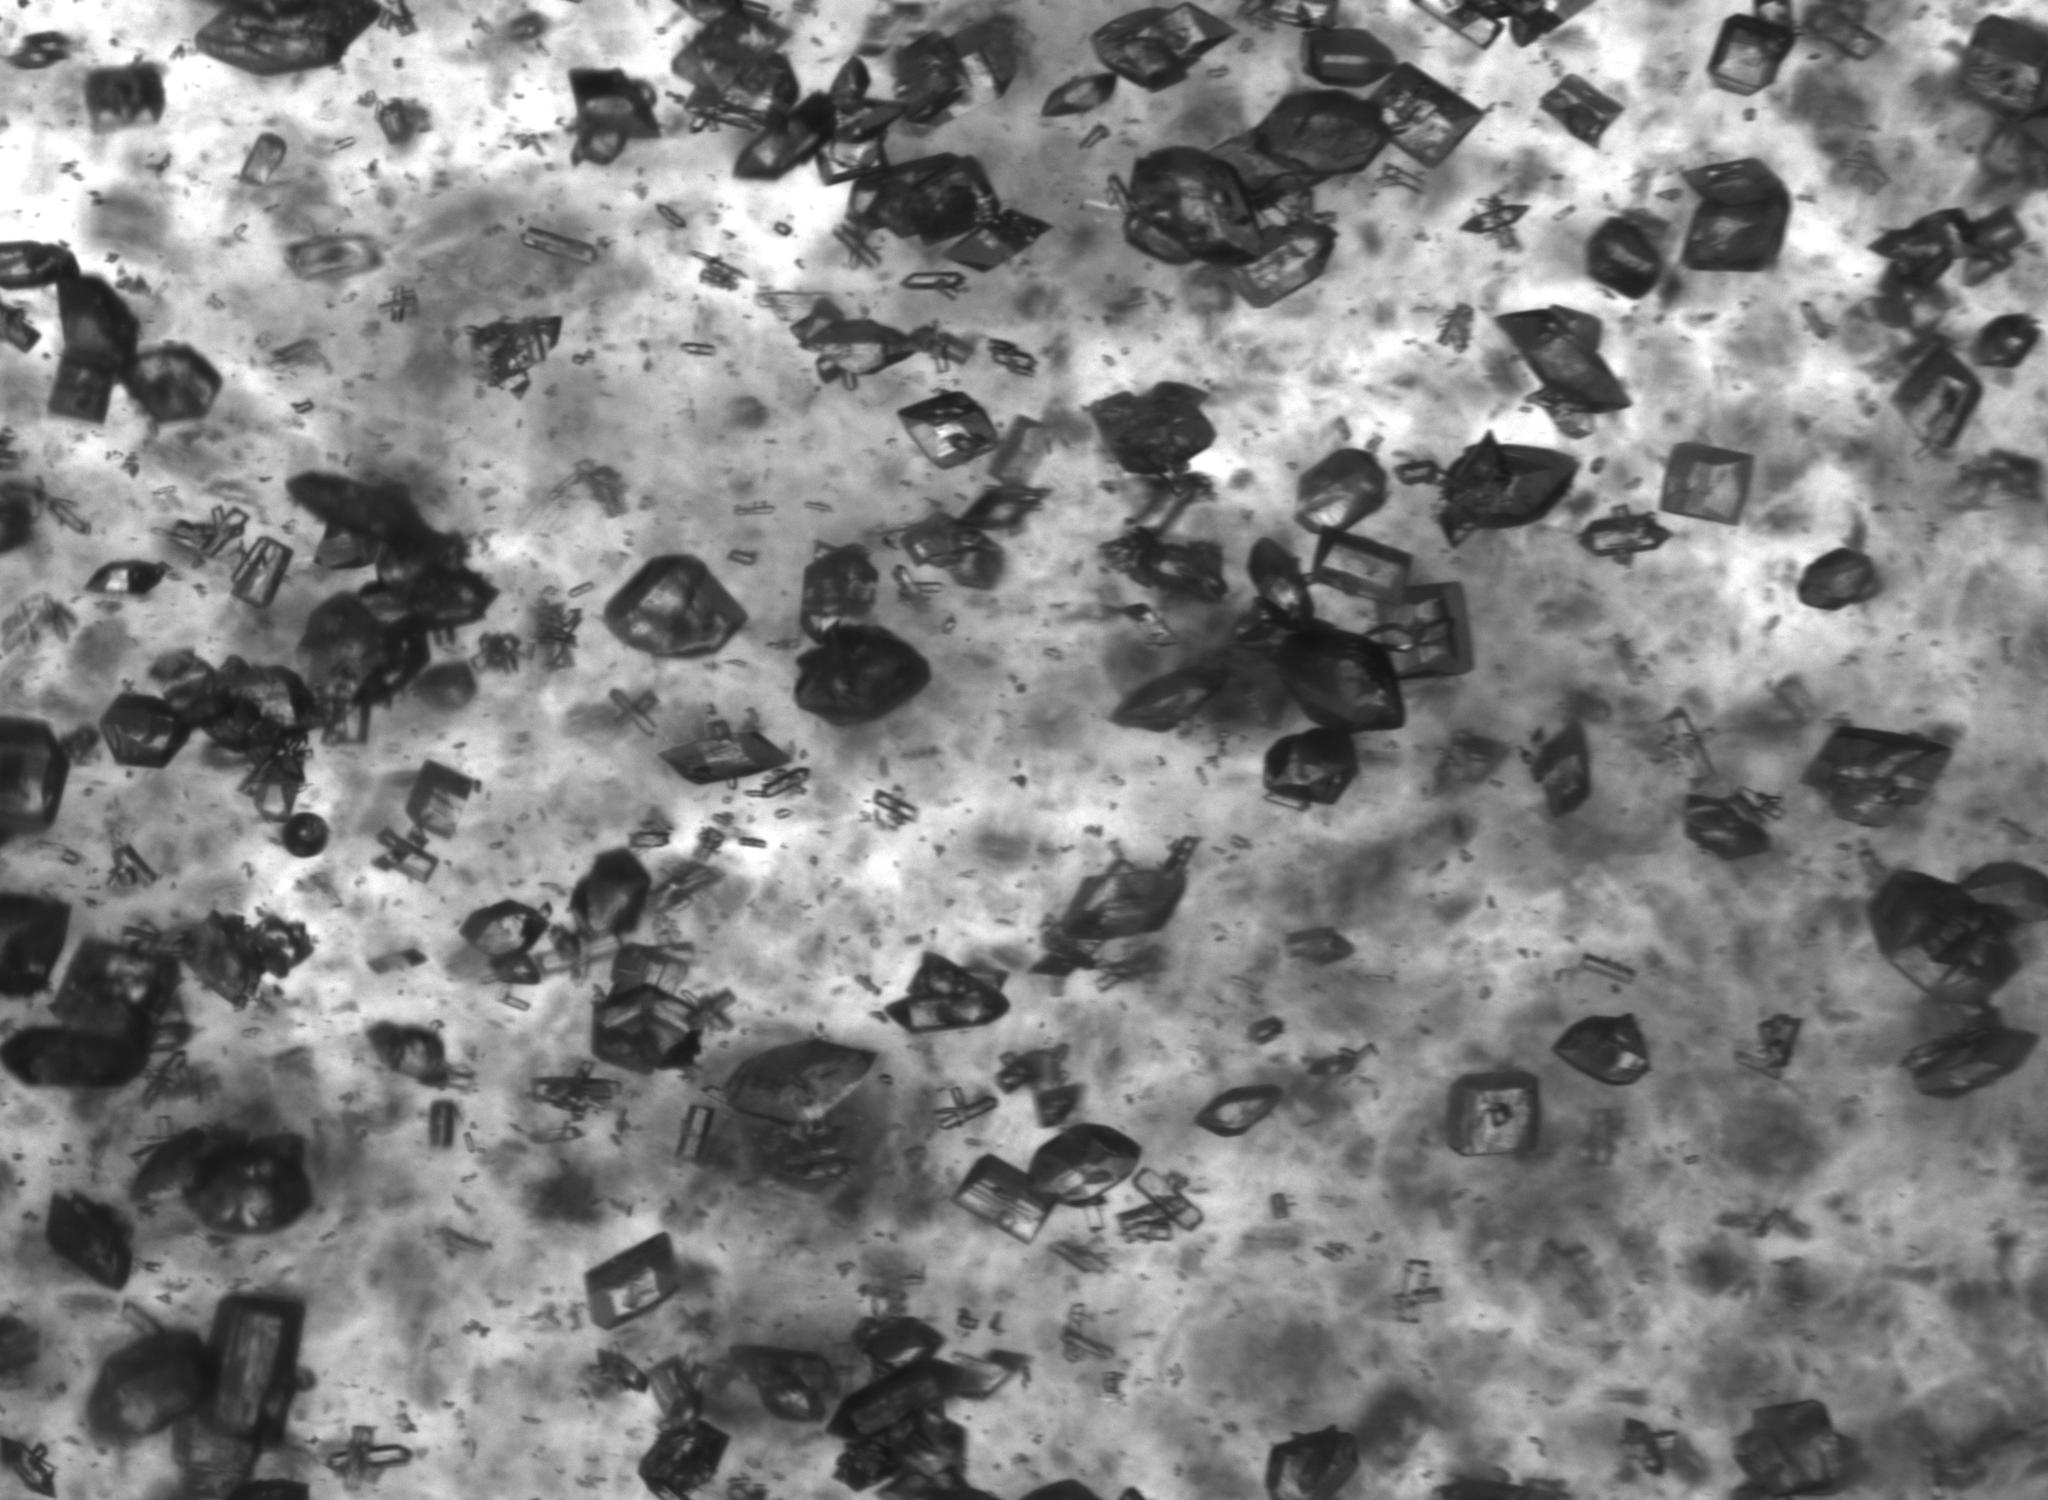bubble: (278, 811, 331, 857)
crystal: (830, 1317, 1024, 1500), (297, 569, 487, 741), (0, 938, 180, 1091), (1867, 862, 2048, 1008), (735, 57, 903, 185), (1210, 89, 1390, 207), (286, 471, 469, 579), (592, 943, 731, 1074), (673, 0, 800, 134), (162, 657, 321, 764), (1119, 146, 1261, 266), (84, 1327, 213, 1444), (887, 16, 1021, 129), (1803, 725, 1951, 827), (207, 1293, 305, 1446), (1439, 436, 1579, 542), (1056, 838, 1197, 943), (714, 1037, 878, 1128), (604, 555, 747, 659), (1496, 305, 1630, 414), (196, 0, 383, 76), (1275, 624, 1406, 733), (849, 153, 1000, 245), (793, 625, 932, 725), (49, 272, 138, 422), (183, 1134, 312, 1236), (1870, 207, 2027, 290), (639, 1355, 728, 1500), (1732, 1400, 1856, 1500), (1681, 159, 1790, 272), (1092, 3, 1234, 91), (180, 911, 313, 1004), (1903, 1007, 2038, 1098), (1088, 382, 1215, 477), (1369, 64, 1484, 167), (792, 301, 924, 390), (882, 951, 1008, 1034), (1367, 582, 1474, 679), (1892, 344, 1983, 453), (1956, 14, 2048, 118), (1232, 539, 1317, 652), (952, 1155, 1059, 1244), (1228, 220, 1336, 307), (585, 1233, 681, 1330), (1102, 530, 1228, 603), (1029, 1123, 1142, 1204), (0, 716, 70, 845), (1412, 0, 1593, 48), (569, 68, 660, 164), (1444, 1069, 1542, 1156), (660, 721, 792, 784), (728, 1346, 838, 1422), (895, 512, 1005, 589), (1307, 528, 1414, 603), (897, 391, 999, 469), (127, 342, 223, 425), (1263, 727, 1360, 808), (1111, 665, 1229, 732), (1294, 449, 1388, 531), (1658, 442, 1754, 523), (0, 891, 72, 997), (467, 315, 561, 394), (800, 544, 878, 639), (994, 1045, 1083, 1128), (461, 900, 550, 983), (97, 692, 192, 768), (938, 208, 1051, 272), (1264, 1425, 1360, 1500), (1708, 14, 1795, 95), (571, 849, 650, 937), (1553, 1013, 1650, 1085), (1684, 789, 1781, 861), (1301, 27, 1398, 97), (1121, 1166, 1205, 1244), (1587, 216, 1665, 299), (1530, 721, 1592, 818), (1541, 75, 1623, 146), (364, 1021, 450, 1088), (405, 760, 479, 838), (84, 60, 164, 132), (324, 1425, 413, 1487), (161, 506, 250, 566), (1579, 506, 1673, 563), (1797, 547, 1881, 611), (1798, 0, 1884, 60), (531, 1063, 622, 1120), (239, 746, 305, 822), (987, 415, 1056, 484), (957, 480, 1048, 531), (1735, 1013, 1803, 1080), (231, 534, 293, 608), (1196, 1085, 1282, 1137), (1968, 313, 2040, 369), (650, 861, 725, 913), (0, 240, 76, 290), (372, 829, 440, 883), (1460, 196, 1530, 248), (1041, 70, 1118, 118), (0, 1435, 56, 1500), (83, 560, 169, 601), (1059, 1303, 1116, 1363), (1620, 1417, 1678, 1476), (1531, 390, 1596, 439), (910, 323, 975, 369), (522, 226, 598, 262), (1285, 926, 1355, 966), (239, 132, 288, 186), (933, 1088, 997, 1129), (676, 1102, 719, 1163), (1259, 0, 1337, 30), (1398, 1258, 1431, 1322), (746, 767, 811, 799), (474, 631, 522, 673), (986, 337, 1037, 375), (375, 99, 415, 146), (1577, 953, 1636, 985), (898, 269, 967, 296), (1371, 162, 1426, 194), (1391, 458, 1444, 487), (1752, 0, 1794, 29), (1247, 1015, 1285, 1045), (679, 340, 717, 356)
